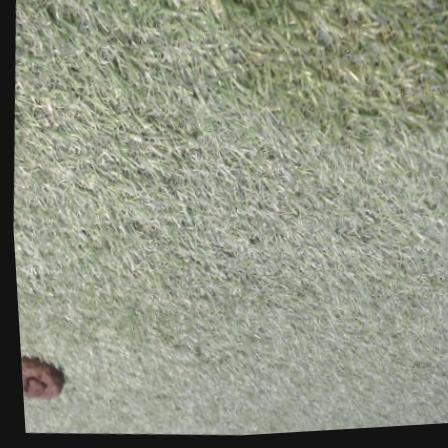dog-poop: (17, 358, 59, 403)
